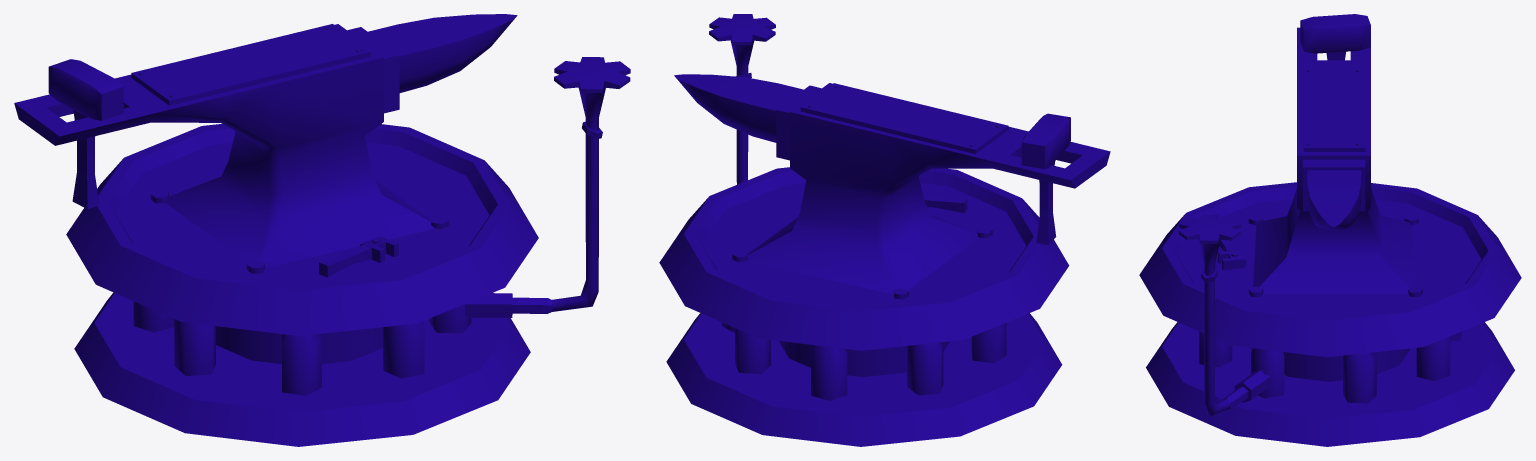
Rendered from CG_Model_TownInt_Anvil_Mar24_ChrisMcknight.FBX.
3 renders of one model, left to right at view 1: azimuth 30°, elevation 25°; view 2: azimuth 150°, elevation 25°; view 3: azimuth 270°, elevation 25°, orthographic. The views are drawn at different scales.
Parts seen in each view (by area): view 1: Anvil; view 2: Anvil; view 3: Anvil.
Part boxes in pixels (x1,y1,x2,y2): Anvil: [14, 14, 630, 446]; Anvil: [659, 14, 1110, 446]; Anvil: [1139, 14, 1521, 446].
Bounding box in the file's own units: 36.19 × 22.1 × 28.96.
